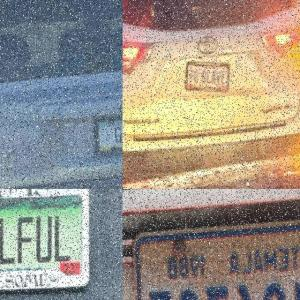Plate: (0, 189, 90, 292), (142, 272, 300, 300), (185, 62, 231, 95), (94, 117, 123, 157)
